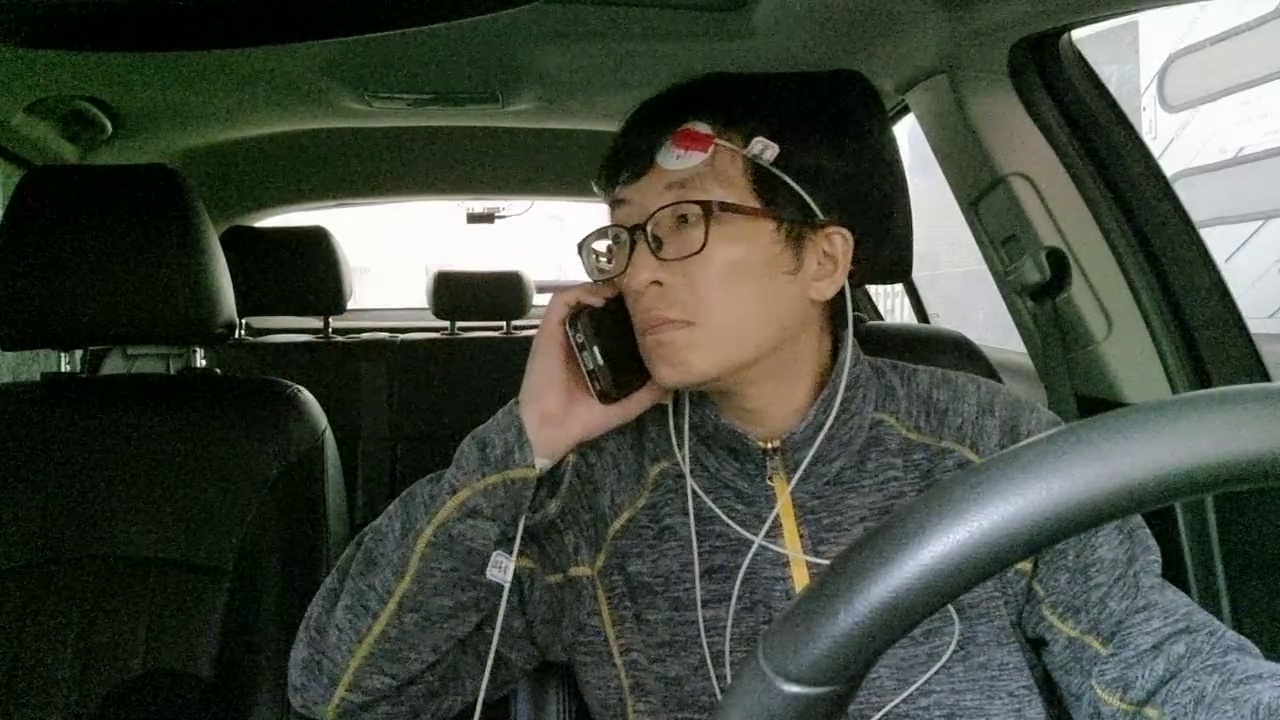phone: (506, 256, 693, 439)
